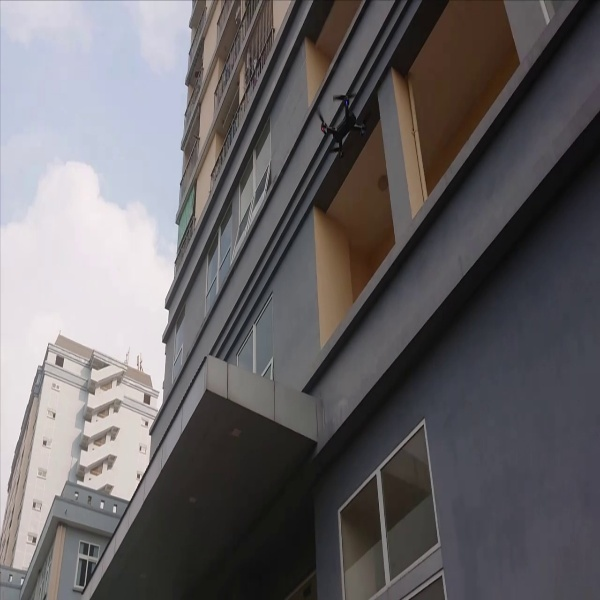drone: (310, 89, 369, 157)
